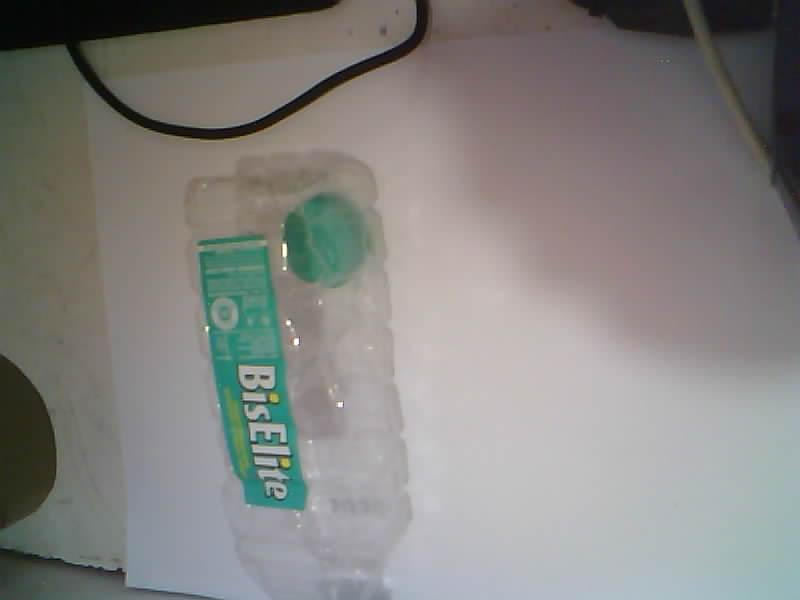non-biodegradable: (186, 154, 410, 599)
